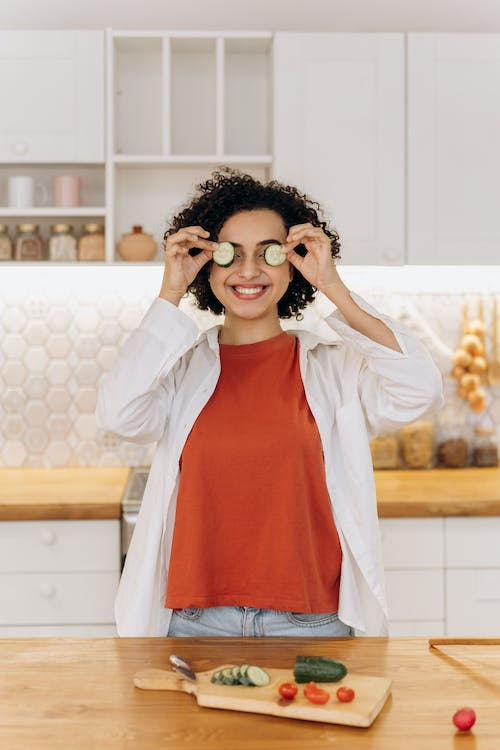knife: (166, 651, 199, 683)
